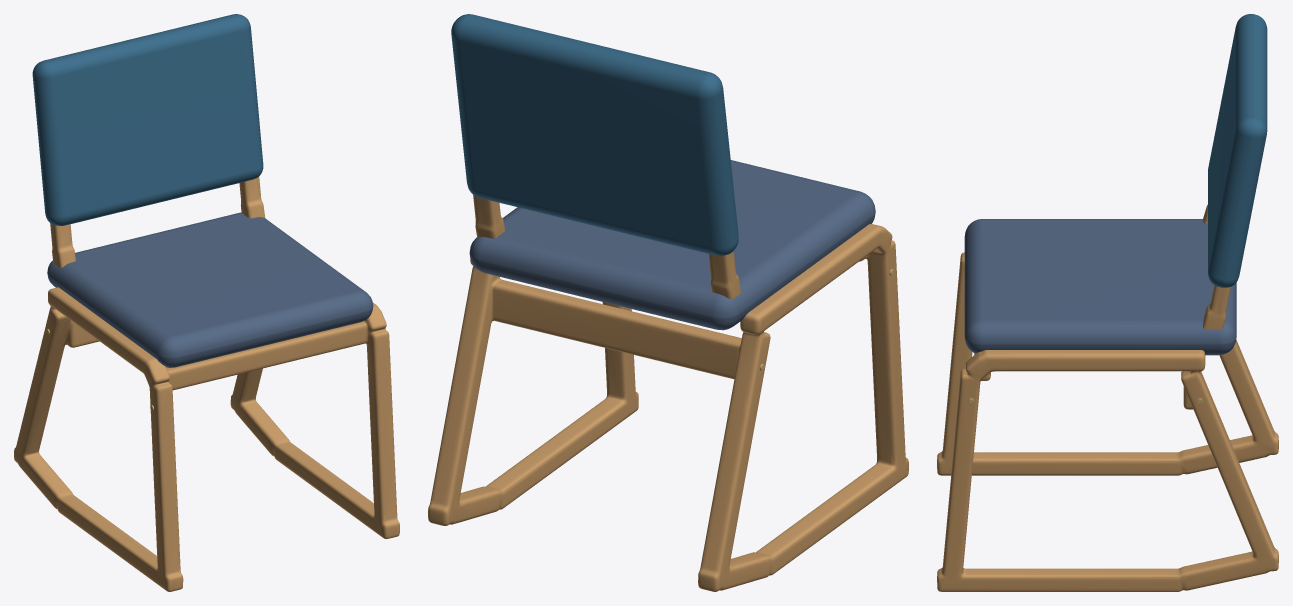
The model's file is college-chair.glb.
3 views of the same model, side by side, from view 1: azimuth 30°, elevation 25°; view 2: azimuth 150°, elevation 25°; view 3: azimuth 270°, elevation 25° (orthographic). The views are drawn at different scales.
Parts seen in each view (by area): view 1: back-cushion, Continuous_Natural_warm_beech, seat-cushion; view 2: Continuous_Natural_warm_beech, back-cushion, seat-cushion; view 3: Continuous_Natural_warm_beech, seat-cushion, back-cushion.
Boxes of the visible parts, x1,y1,x2,y2 form: back-cushion: (32, 14, 263, 225); Continuous_Natural_warm_beech: (14, 176, 399, 591); seat-cushion: (47, 212, 373, 367); Continuous_Natural_warm_beech: (428, 194, 908, 591); back-cushion: (451, 14, 738, 256); seat-cushion: (469, 160, 875, 330); Continuous_Natural_warm_beech: (937, 204, 1278, 591); seat-cushion: (964, 219, 1236, 355); back-cushion: (1208, 14, 1267, 287).
Bounding box in the file's own units: 0.4889 × 0.8382 × 0.5588.
